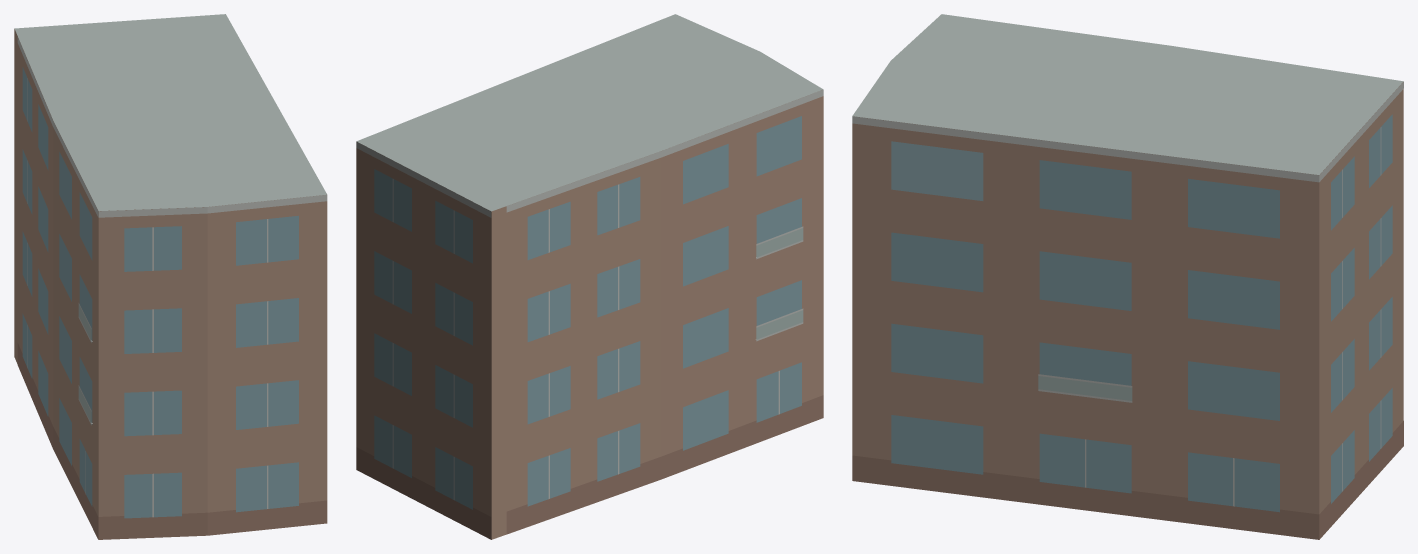
File: survey-upis-32805982.glb
3 views of the same model, side by side, from view 1: azimuth 30°, elevation 25°; view 2: azimuth 150°, elevation 25°; view 3: azimuth 270°, elevation 25° (orthographic). The views are drawn at different scales.
Visible parts, largest first — view 1: survey-upis-32805982.tmp; view 2: survey-upis-32805982.tmp; view 3: survey-upis-32805982.tmp.
Part boxes in pixels (left/top/right/bottom): survey-upis-32805982.tmp: left=14, top=14, right=327, bottom=539; survey-upis-32805982.tmp: left=356, top=14, right=823, bottom=539; survey-upis-32805982.tmp: left=852, top=14, right=1403, bottom=539.
Size of the model in its own units: 11.57 by 12.2 by 16.73.
